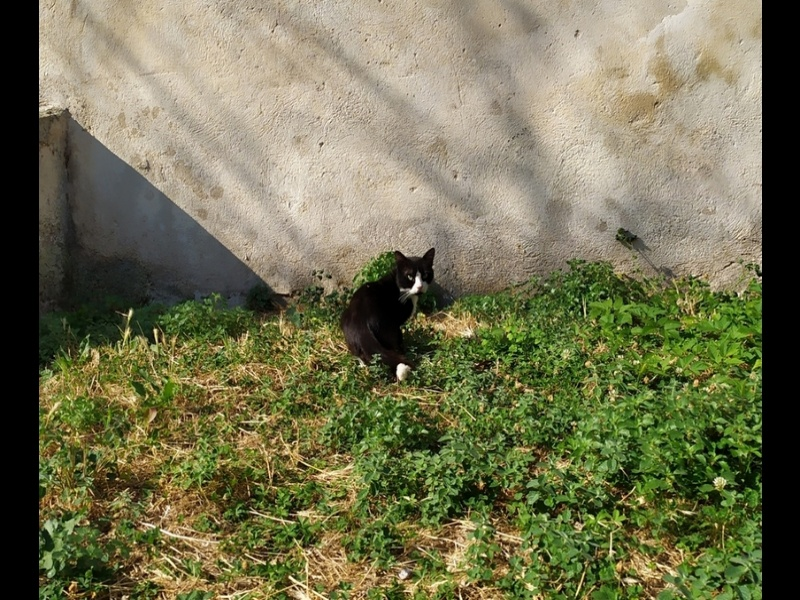cat: (343, 244, 439, 383)
